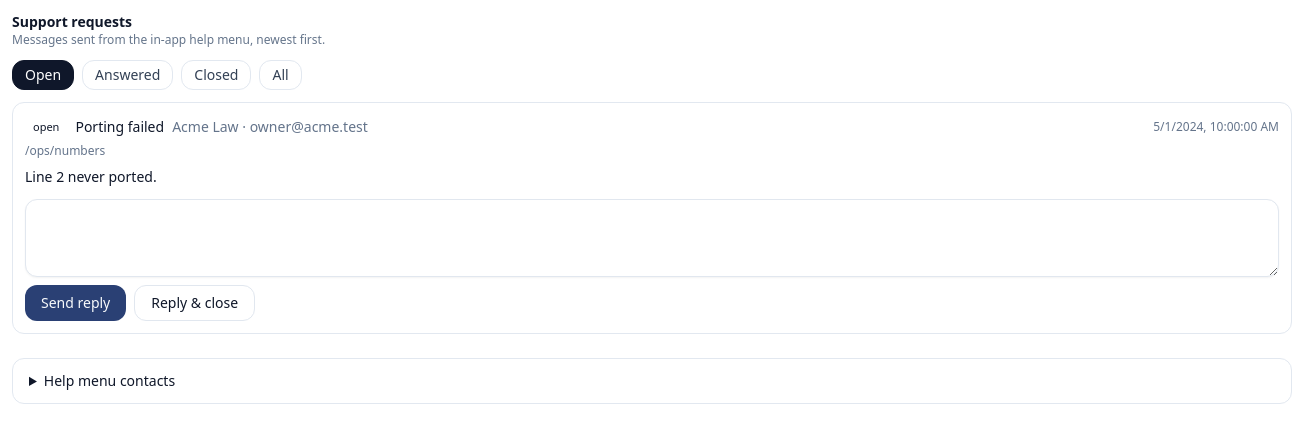
Test: SupportTab › posts a reply without closing
Type "We fixed the port." into the text box named "Reply to Porting failed" at [652, 238], box [25,199,1279,277]
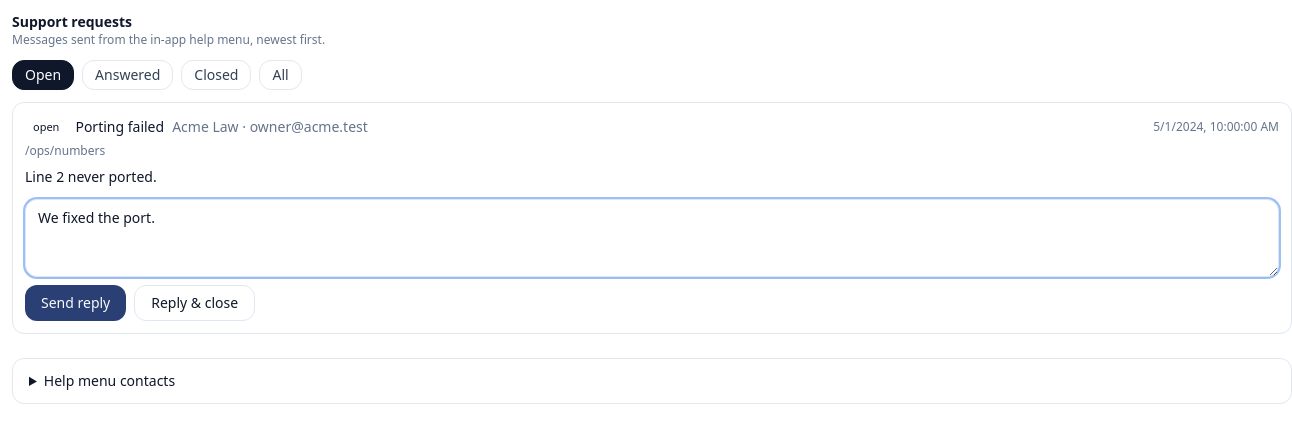
Click the button "Send reply" at [76, 303], box [25,285,126,321]
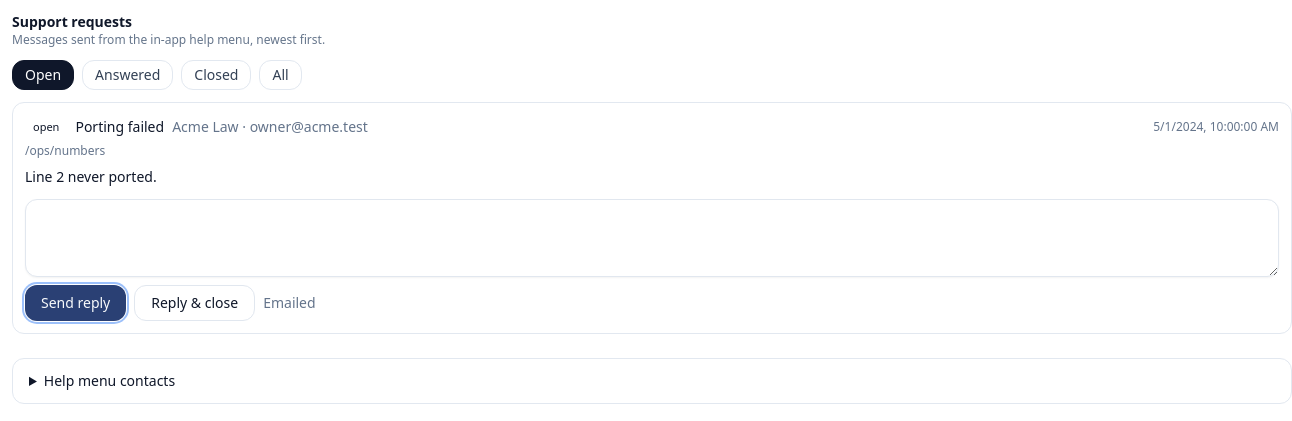
Result: the text "Emailed" is shown at [263,293,316,313]
Result: the text box named "Reply to Porting failed" is empty at [25,199,1279,277]
